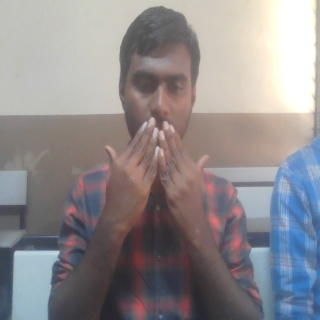Thank You: (101, 118, 216, 245)
